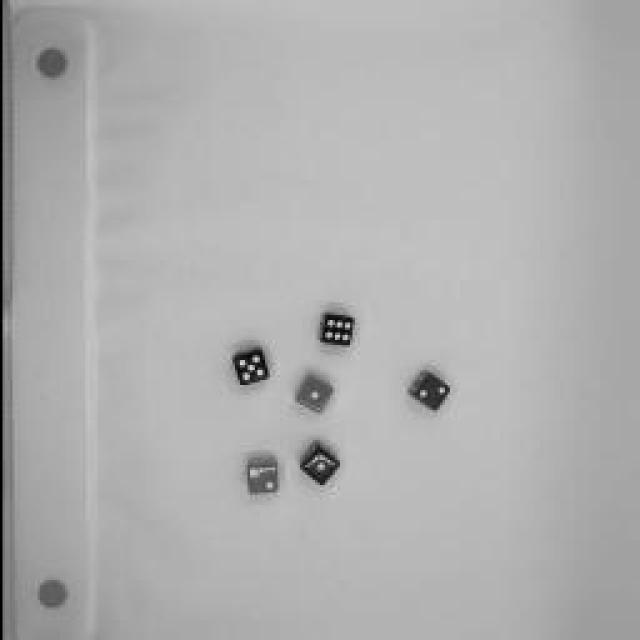dice_1: (290, 439, 345, 491), (285, 370, 335, 420)
dice_2: (400, 365, 455, 417), (238, 454, 282, 501)
dice_5: (222, 340, 276, 390)
dice_6: (310, 306, 358, 356)
